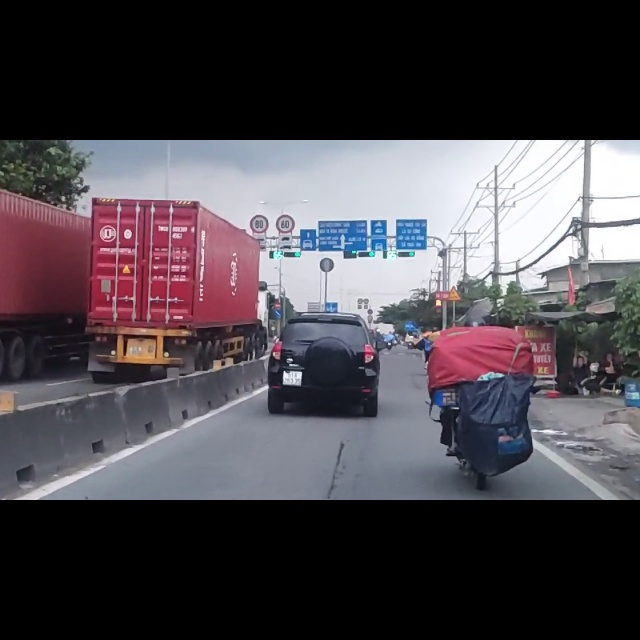bien_cam: (275, 129, 295, 168), (250, 129, 269, 167), (447, 258, 461, 286), (274, 301, 282, 314), (275, 288, 281, 300)
